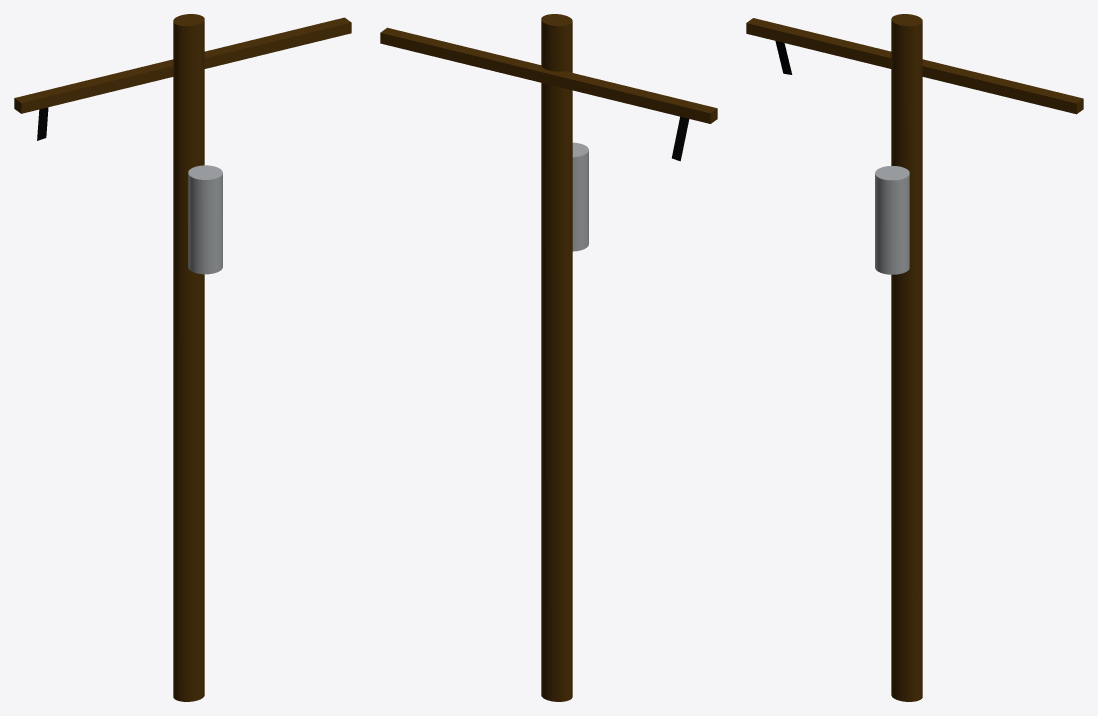
File: power_line_01.glb
3 renders of one model, left to right at view 1: azimuth 30°, elevation 25°; view 2: azimuth 150°, elevation 25°; view 3: azimuth 330°, elevation 25°, orthographic.
Parts seen in each view (by area): view 1: PowerLine01; view 2: PowerLine01; view 3: PowerLine01.
Boxes of the visible parts, x1=… form: PowerLine01: x1=14, y1=14, x2=351, y2=701; PowerLine01: x1=380, y1=14, x2=717, y2=701; PowerLine01: x1=746, y1=14, x2=1083, y2=701.
Bounding box in the file's own units: 11 × 21.5 × 2.21.
